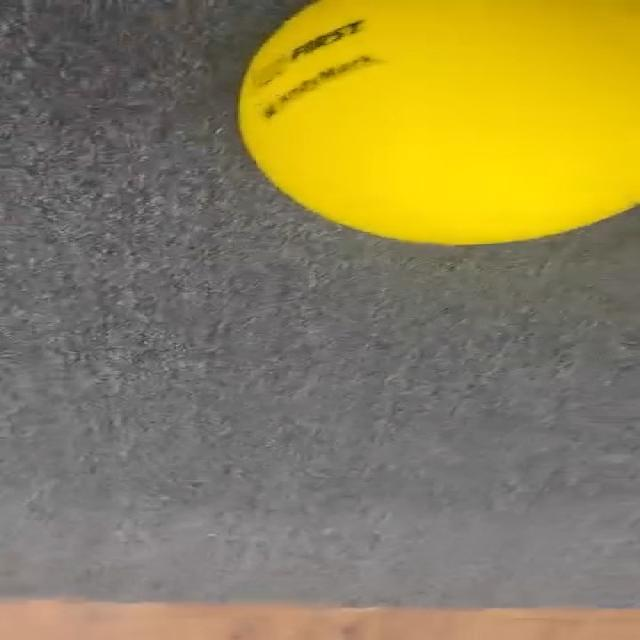Fuels: (240, 0, 638, 242)
